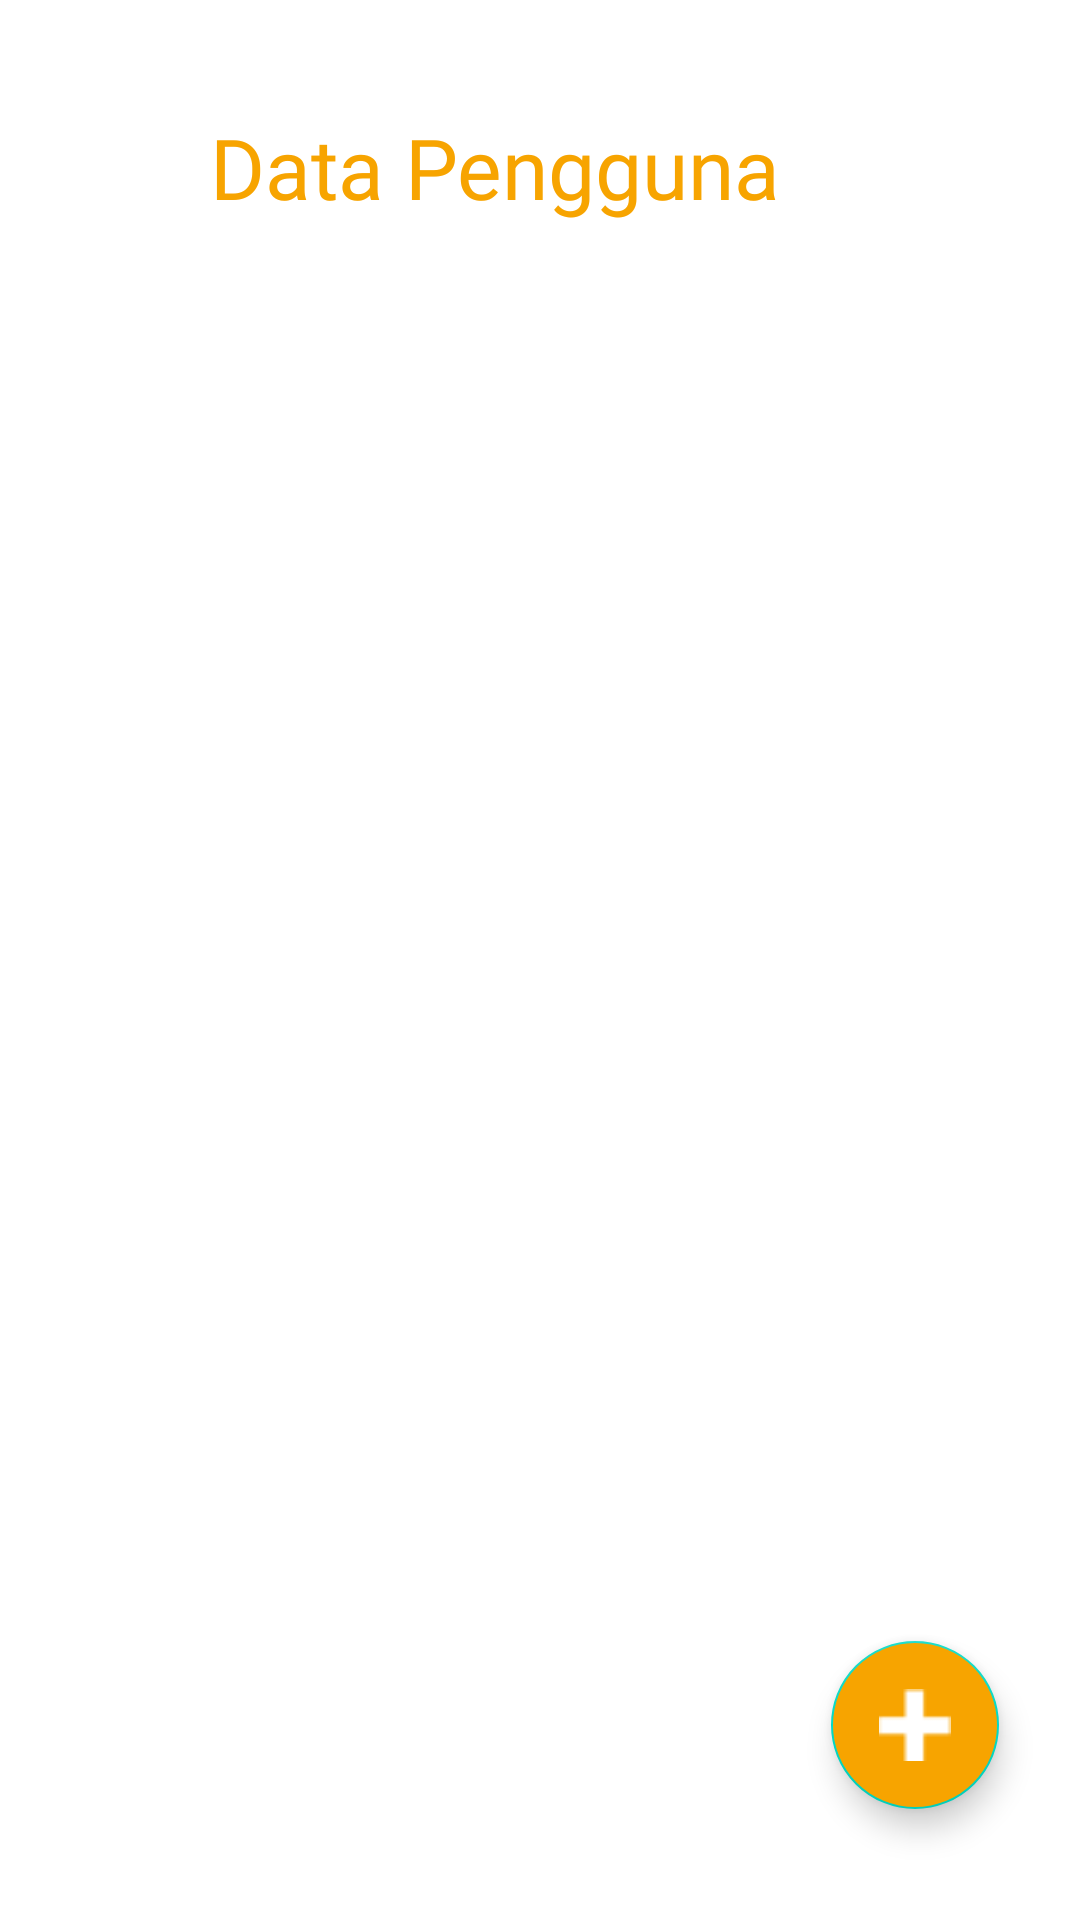

Point at icon controls on the screen. Image size 1080×1920, points as (x=x, y=y).
plus symbol: (x=915, y=1725)
